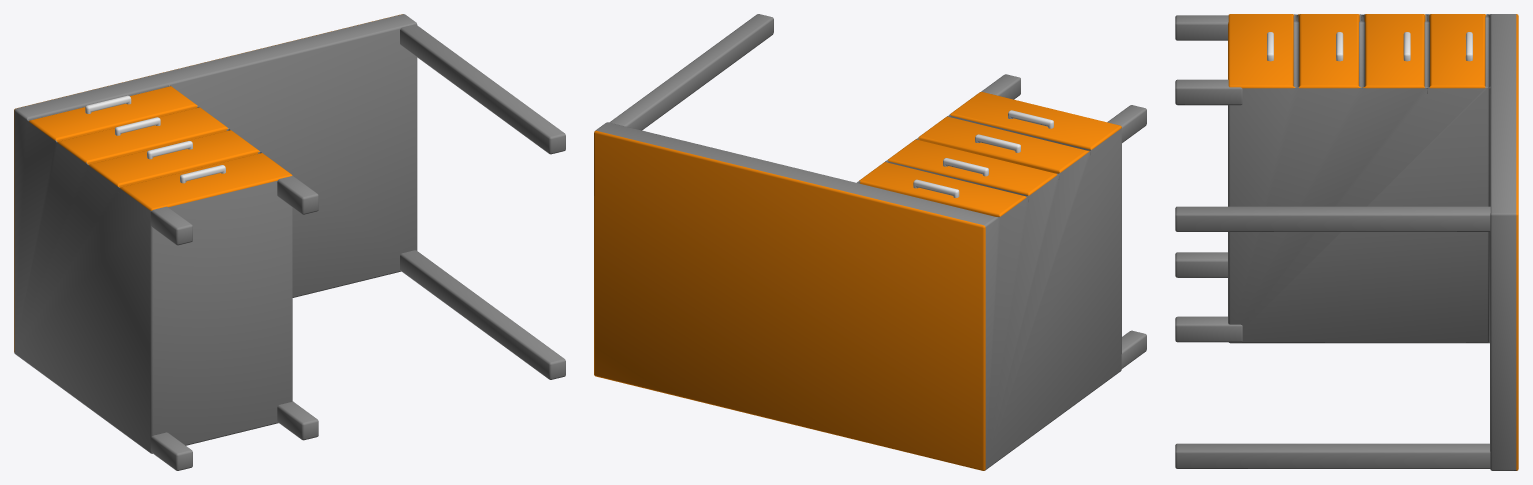
The picture shows the model from 3 angles, left to right: view 1: azimuth 30°, elevation 25°; view 2: azimuth 150°, elevation 25°; view 3: azimuth 270°, elevation 25°; orthographic projection. The views are drawn at different scales.
Parts seen in each view (by area): view 1: Cube; view 2: Cube; view 3: Cube.
Part boxes in pixels (x1,y1,x2,y2): Cube: (14, 14, 565, 470); Cube: (594, 14, 1146, 470); Cube: (1175, 14, 1518, 470).
Bounding box in the file's own units: 100 × 61.68 × 72.38.
